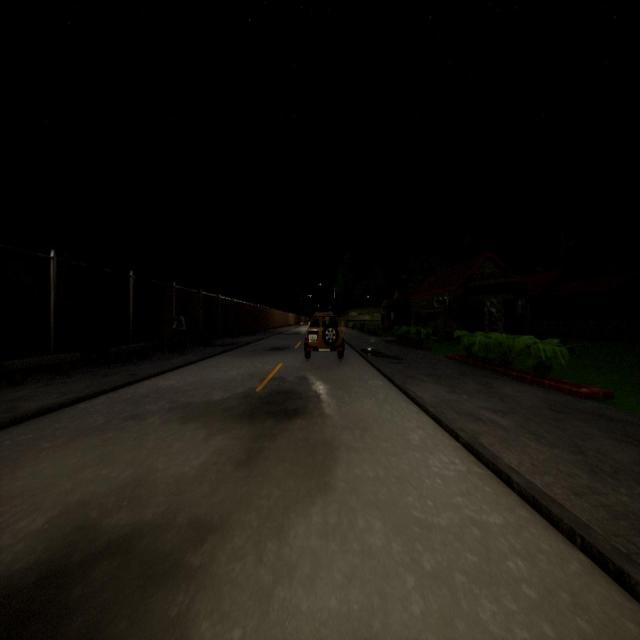Vehicle: (301, 308, 348, 359)
